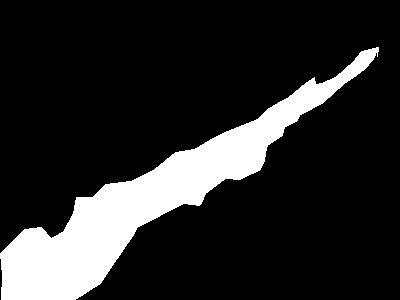Fire: (207, 49, 377, 174)
